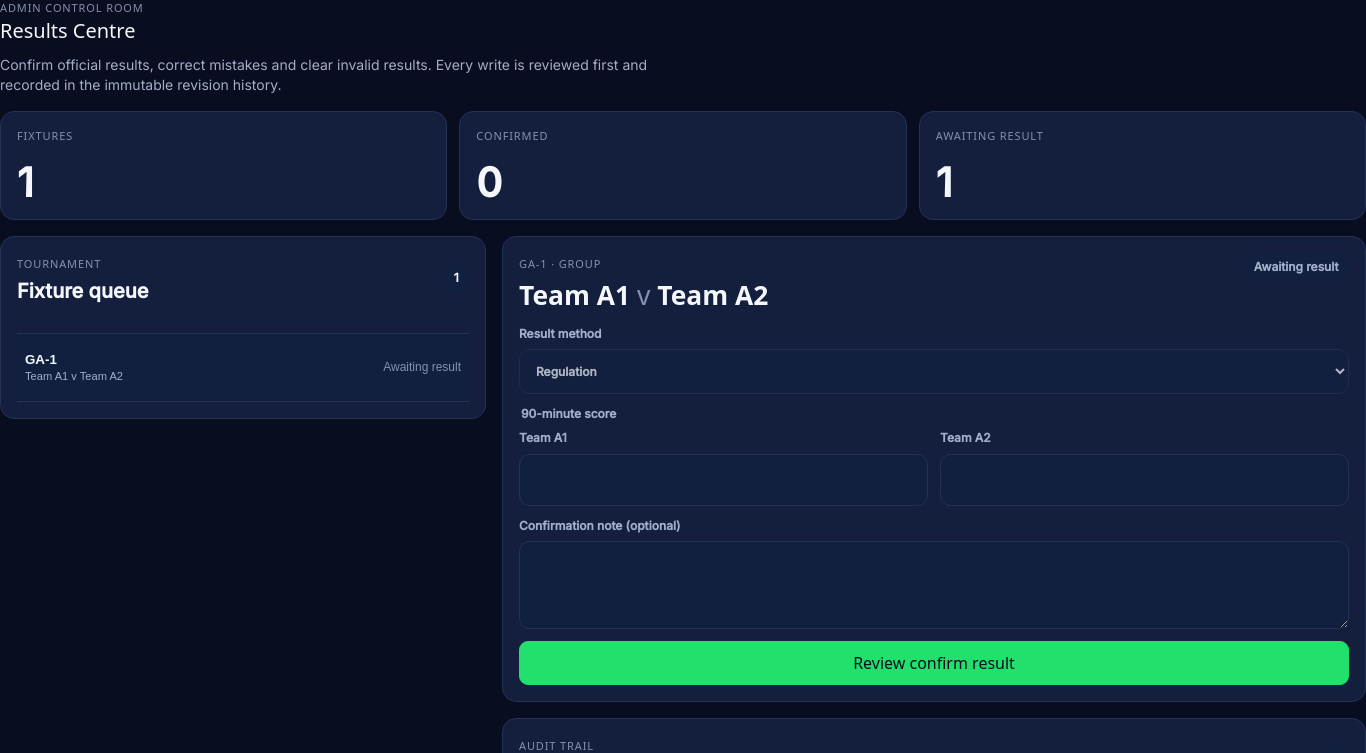
Scenario: AdminResultsPage › does not write until the administrator confirms the review dialog
The width and height of the screenshot is (1366, 753).
In the number field labelled "Team A1": (724, 480) x1=519 y1=454 x2=928 y2=506, type "2"
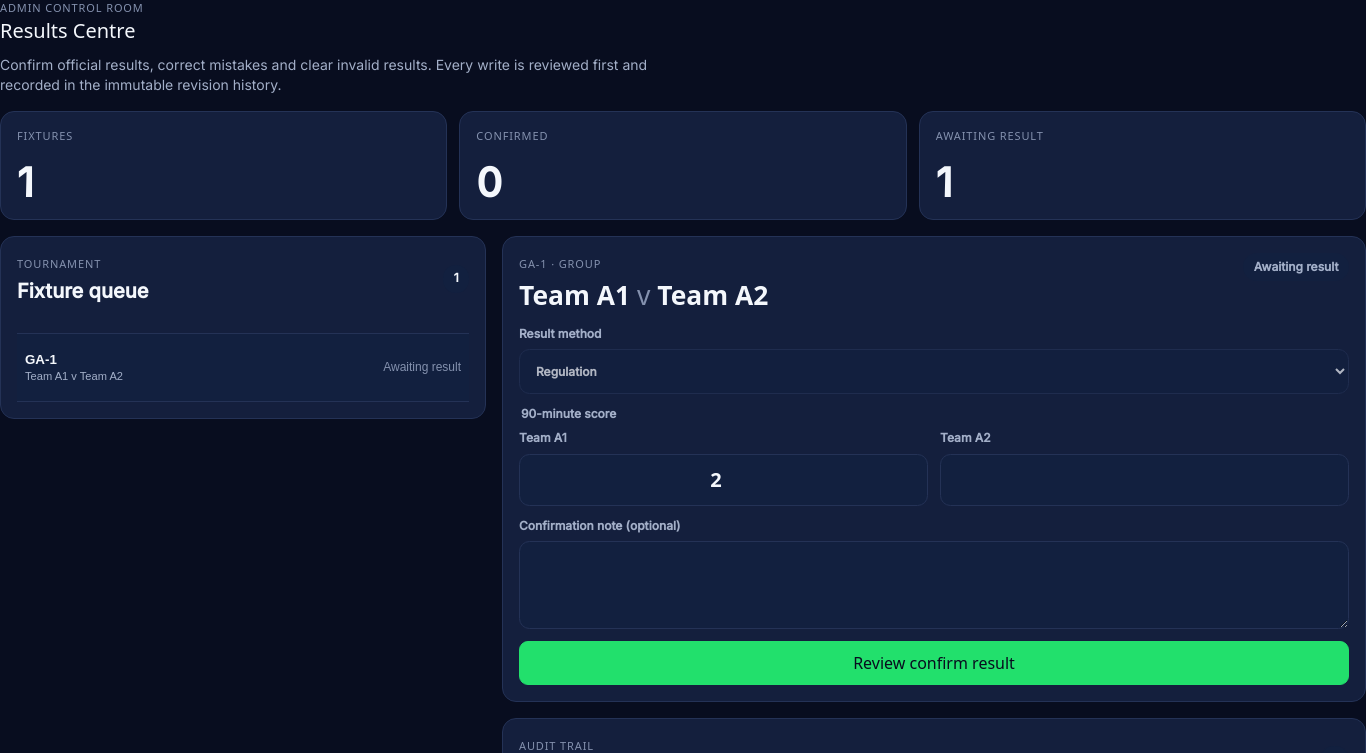
In the number field labelled "Team A2": (1144, 480) x1=940 y1=454 x2=1349 y2=506, type "1"
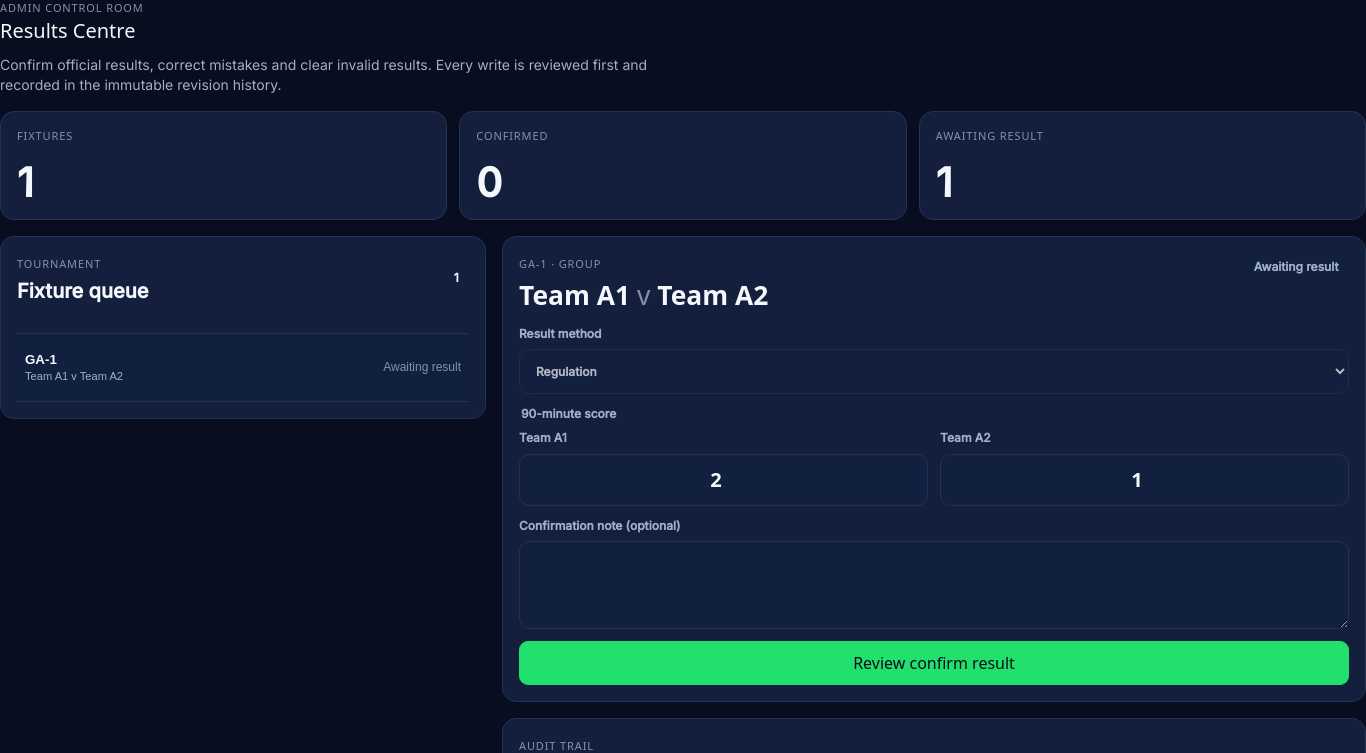
Click the button "Review confirm result": (934, 663) x1=519 y1=641 x2=1349 y2=685
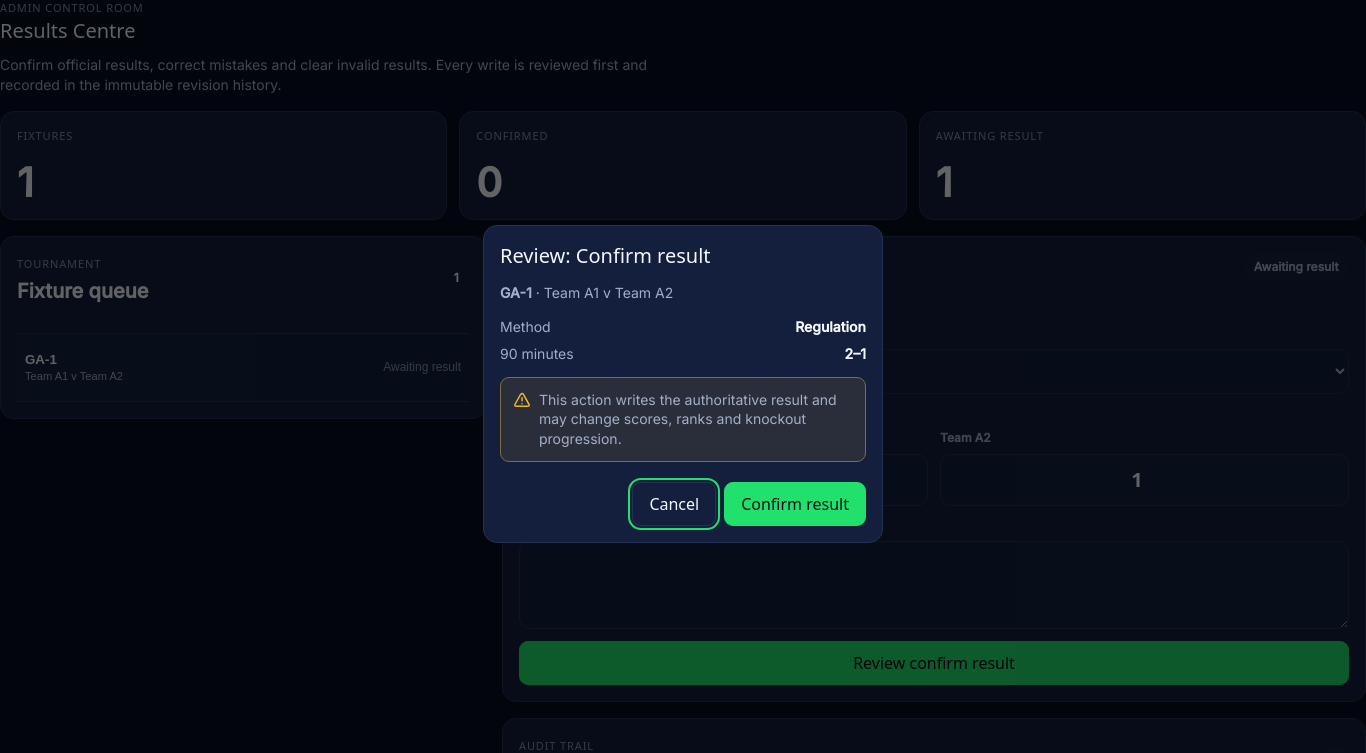
Now the dialog "Review: Confirm result" shows "2–1", box x1=483 y1=225 x2=883 y2=543
Click the button "Confirm result": (795, 504) x1=724 y1=482 x2=866 y2=526
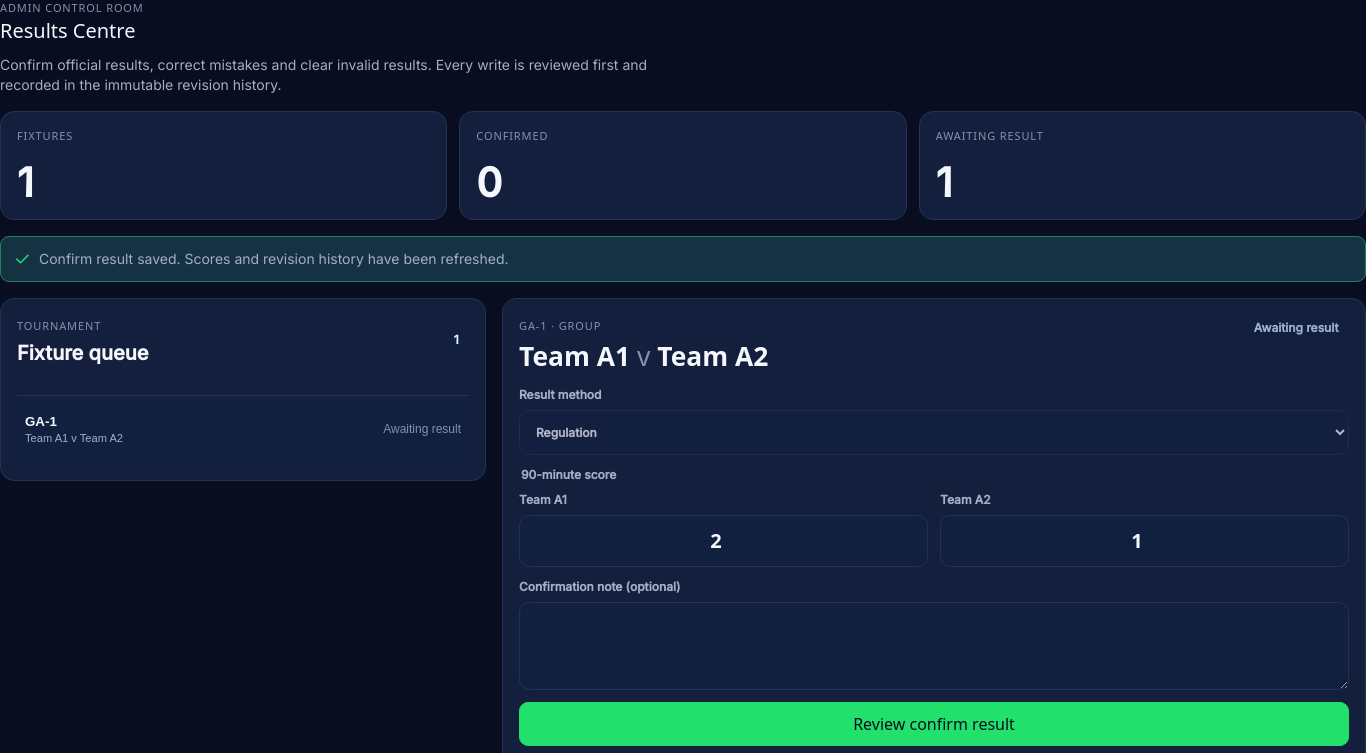
Now the message shows "Confirm result saved", box x1=39 y1=250 x2=508 y2=267
